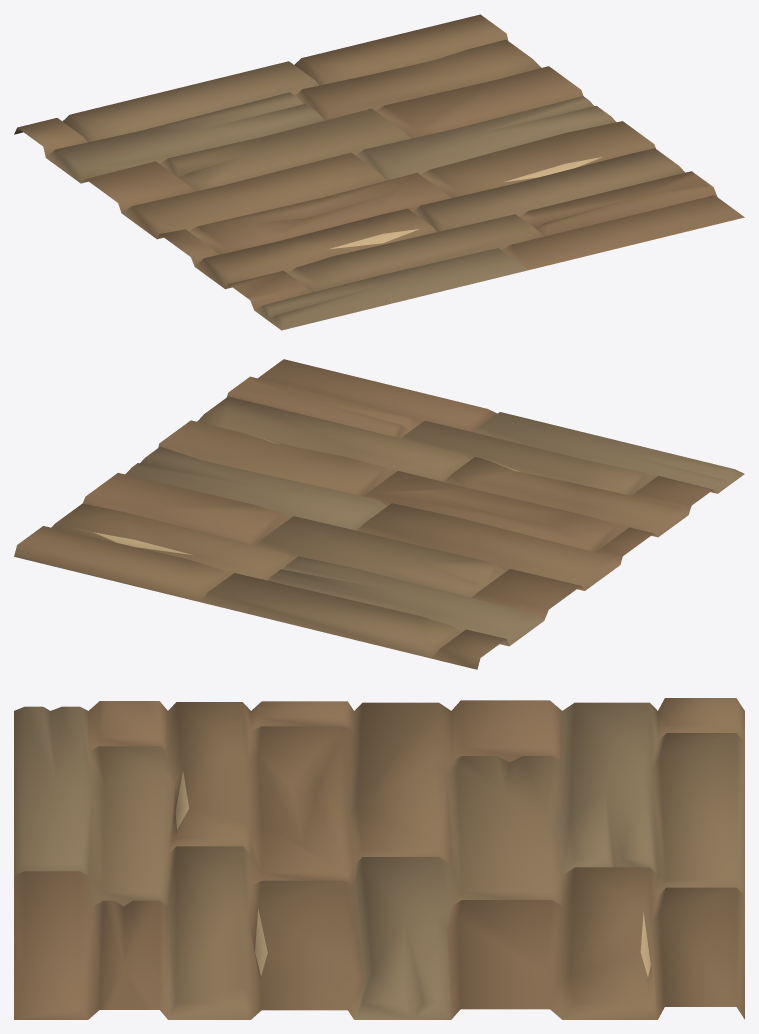
File: rpgpp_ag_floor_01a_3x3.fbx
3 renders of one model, top to bottom at view 1: azimuth 30°, elevation 25°; view 2: azimuth 150°, elevation 25°; view 3: azimuth 270°, elevation 25°, orthographic. The views are drawn at different scales.
Visible parts, largest first — view 1: rpgpp_ag_floor_01a_3x3; view 2: rpgpp_ag_floor_01a_3x3; view 3: rpgpp_ag_floor_01a_3x3.
Part boxes in pixels (x1=…): rpgpp_ag_floor_01a_3x3: x1=14, y1=14, x2=744, y2=330; rpgpp_ag_floor_01a_3x3: x1=14, y1=359, x2=744, y2=669; rpgpp_ag_floor_01a_3x3: x1=14, y1=698, x2=744, y2=1019.
Bounding box in the file's own units: 3 × 0.0587 × 3.
